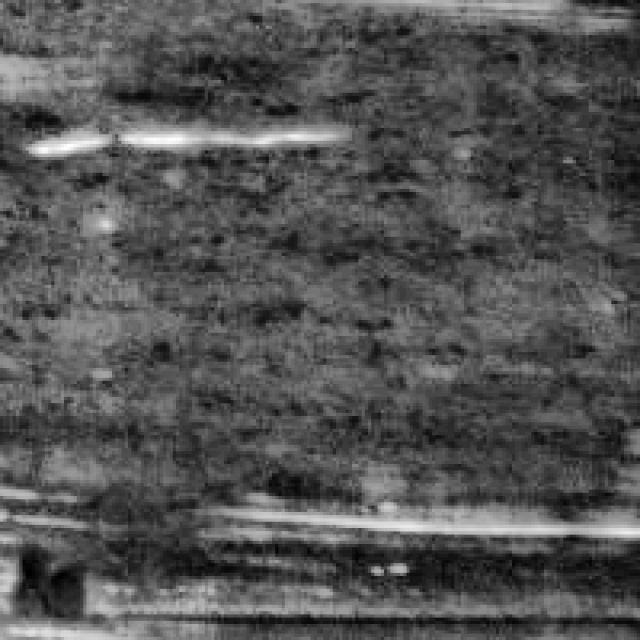Inclusion: (20, 108, 342, 164), (259, 496, 634, 544)
Patches: (3, 538, 83, 620)
